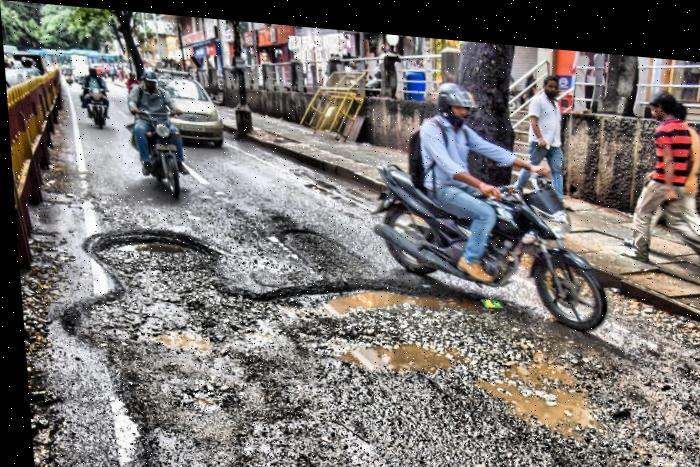pothole: (81, 215, 222, 287), (291, 272, 489, 318), (326, 326, 459, 374)
